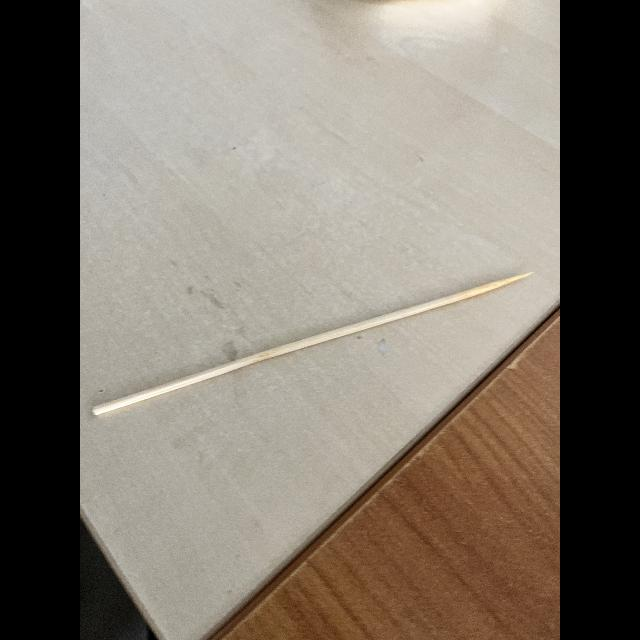stick: (86, 264, 540, 422)
